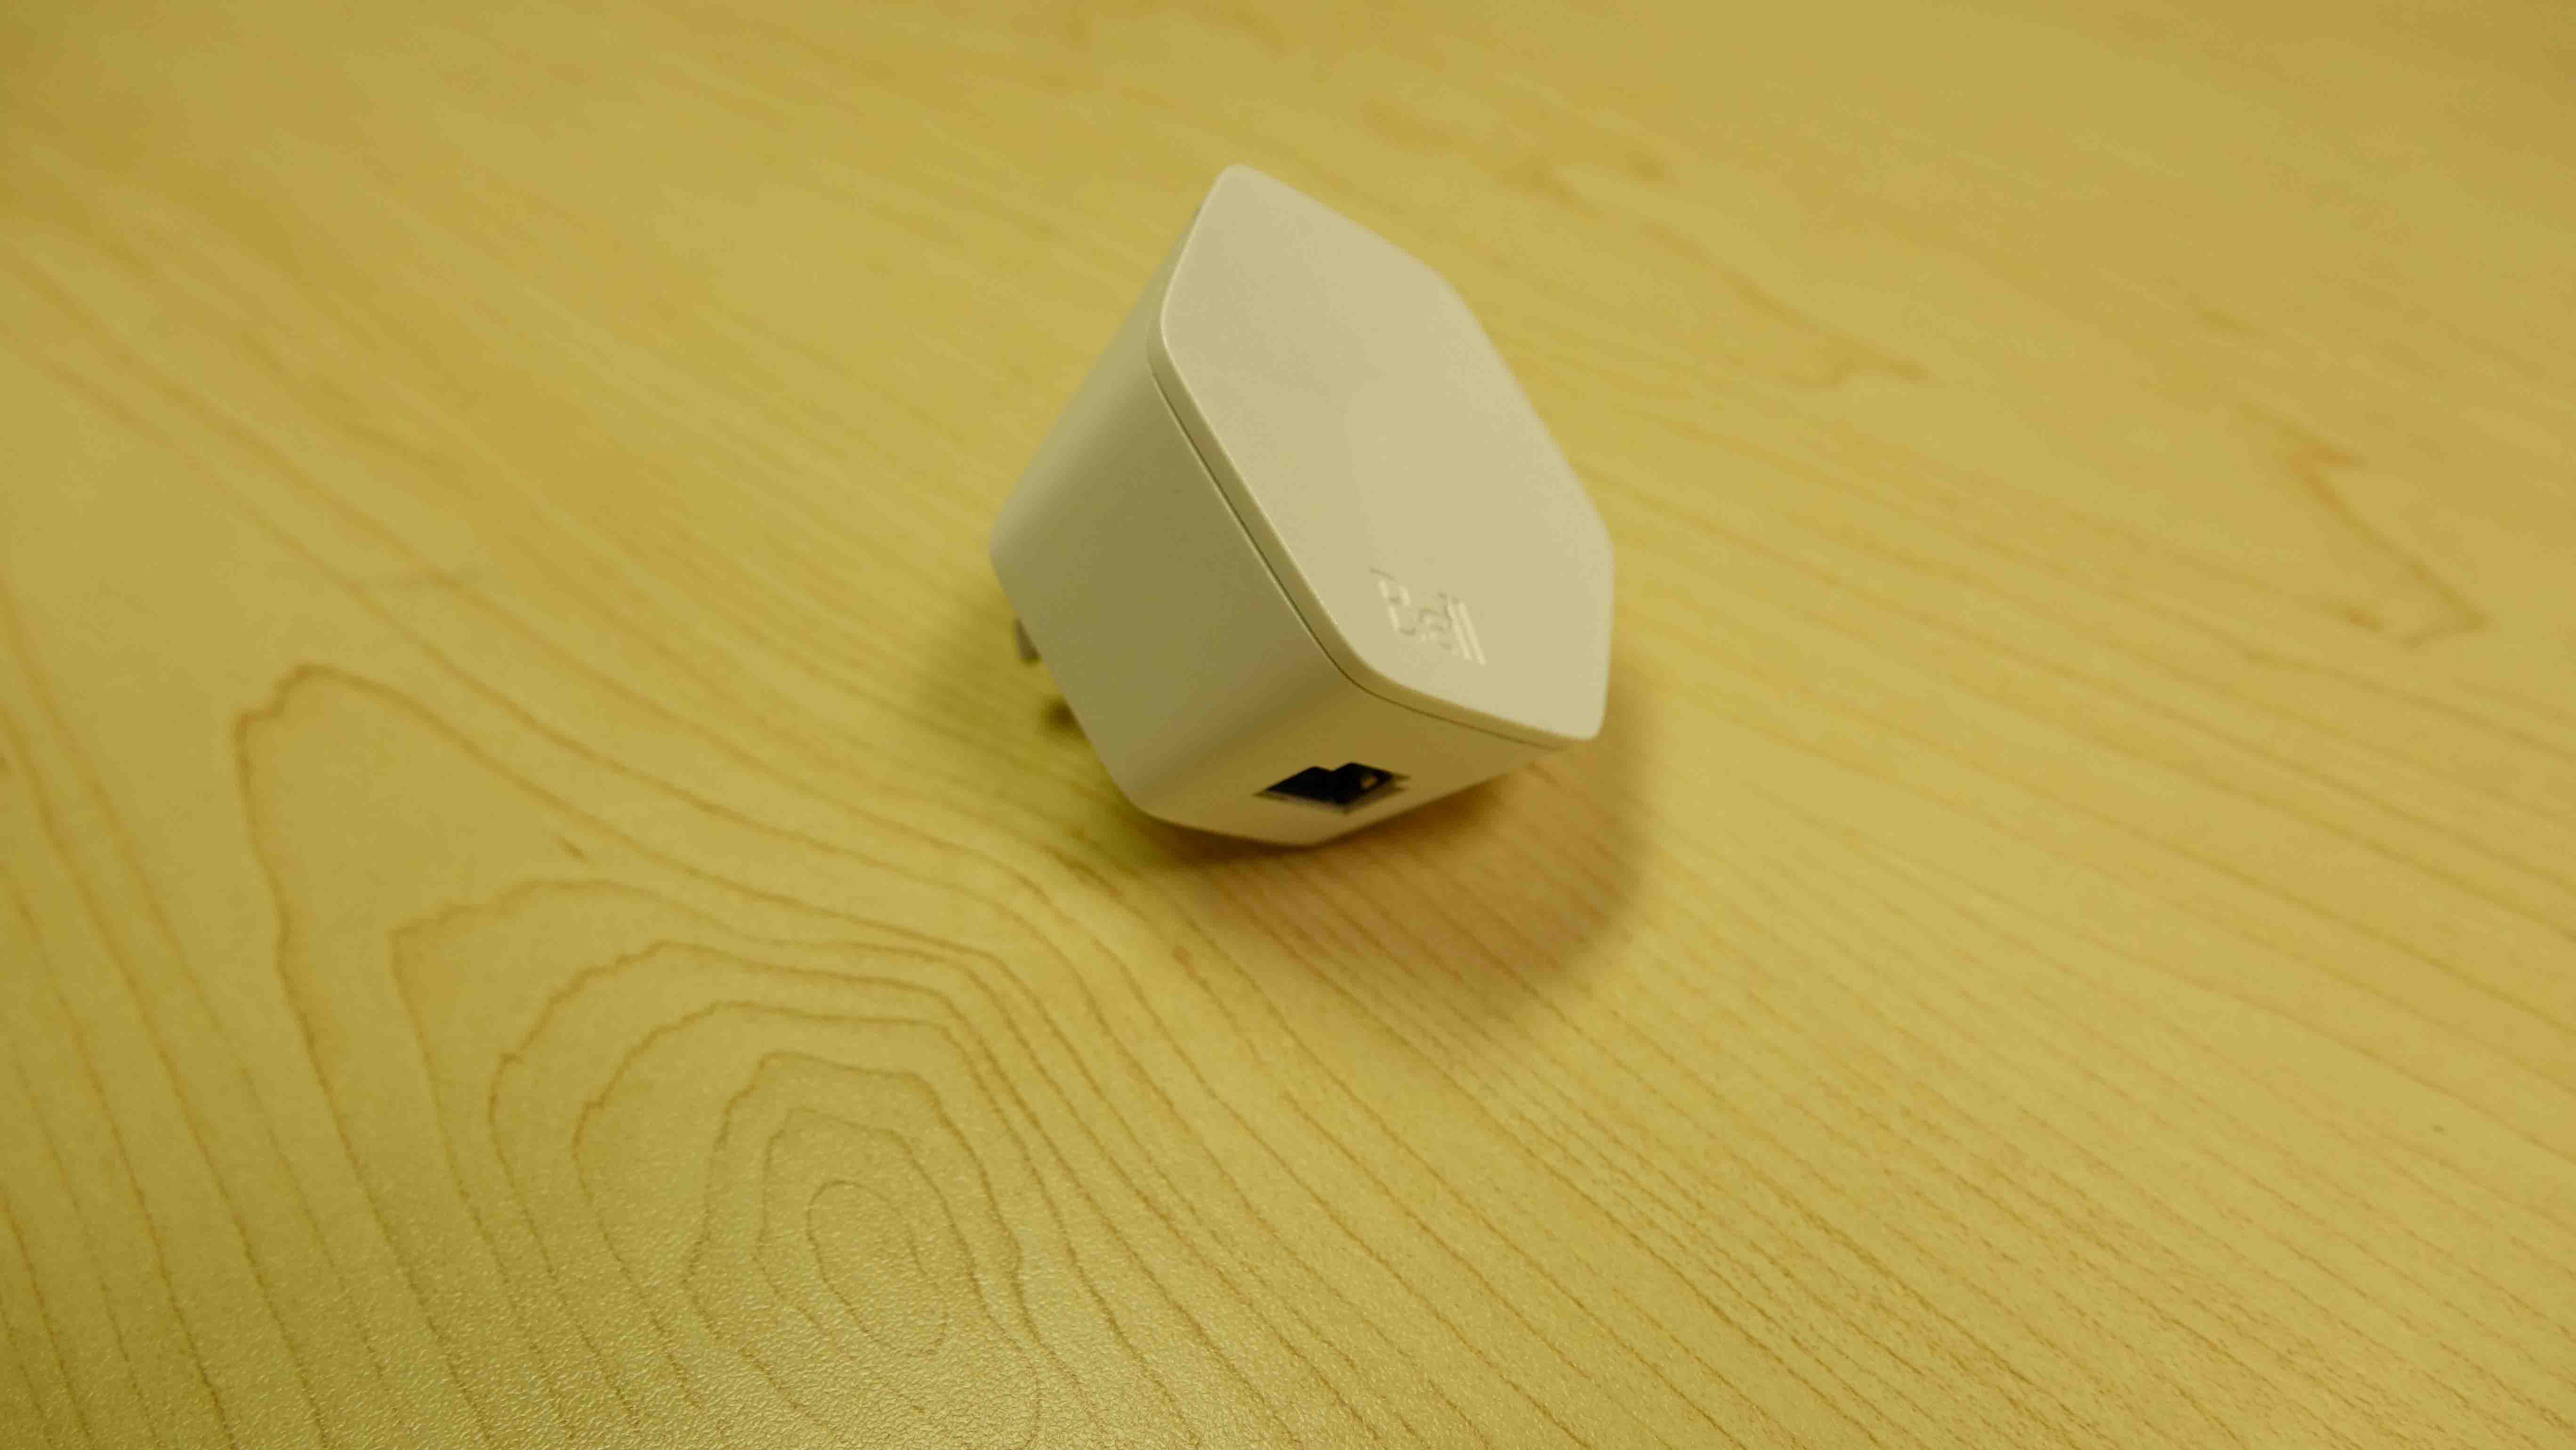pod: (970, 145, 1638, 874)
